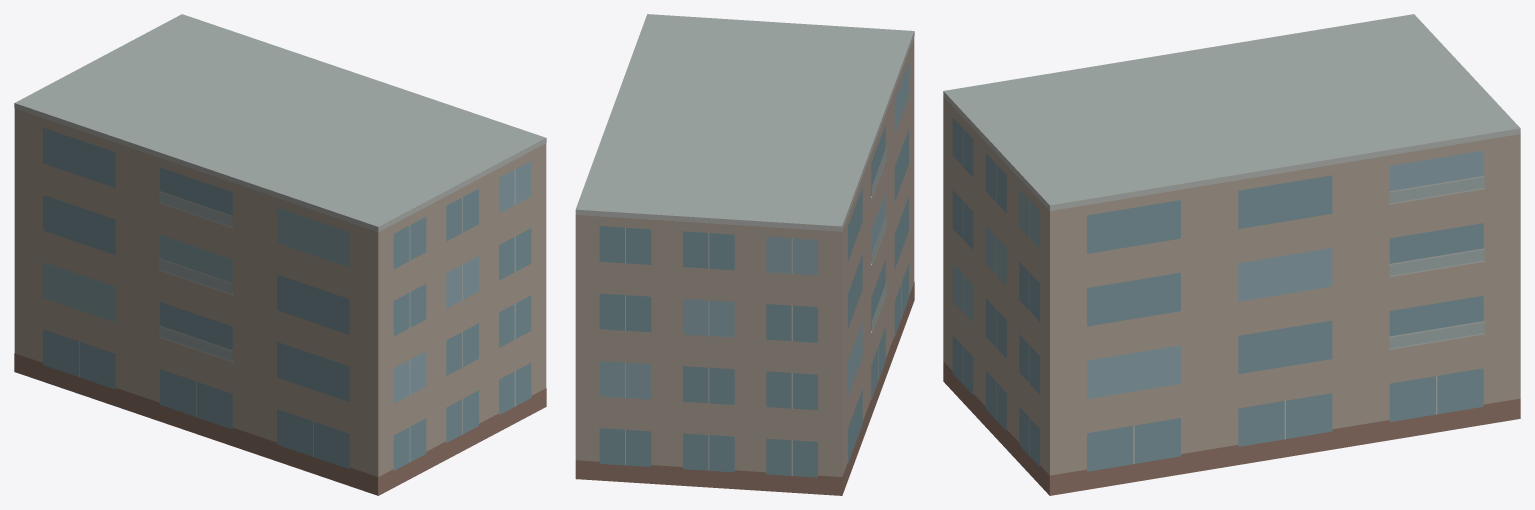
The model's file is survey-upis-32943092.glb.
3 views of the same model, side by side, from view 1: azimuth 30°, elevation 25°; view 2: azimuth 150°, elevation 25°; view 3: azimuth 270°, elevation 25° (orthographic). The views are drawn at different scales.
Parts seen in each view (by area): view 1: survey-upis-32943092.tmp; view 2: survey-upis-32943092.tmp; view 3: survey-upis-32943092.tmp.
Boxes of the visible parts, x1,y1,x2,y2 form: survey-upis-32943092.tmp: [14, 14, 546, 495]; survey-upis-32943092.tmp: [575, 14, 914, 495]; survey-upis-32943092.tmp: [943, 14, 1520, 495].
Size of the model in its own units: 17.68 by 12.5 by 22.53.
